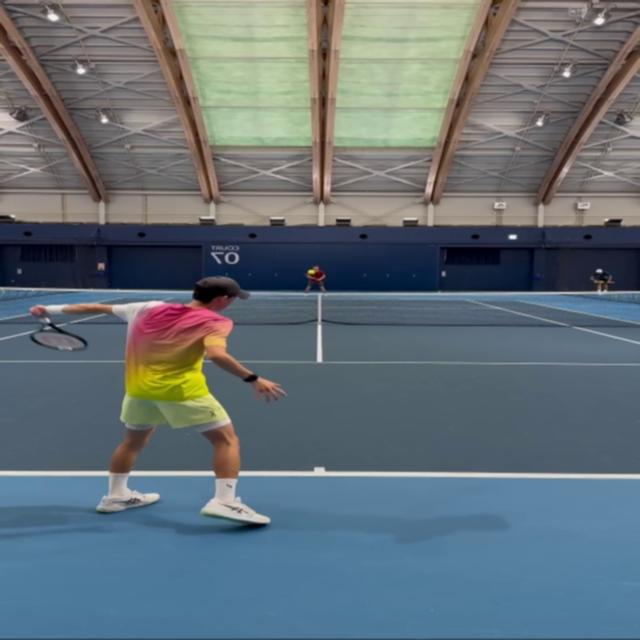tennis_ball: (309, 271, 313, 273)
